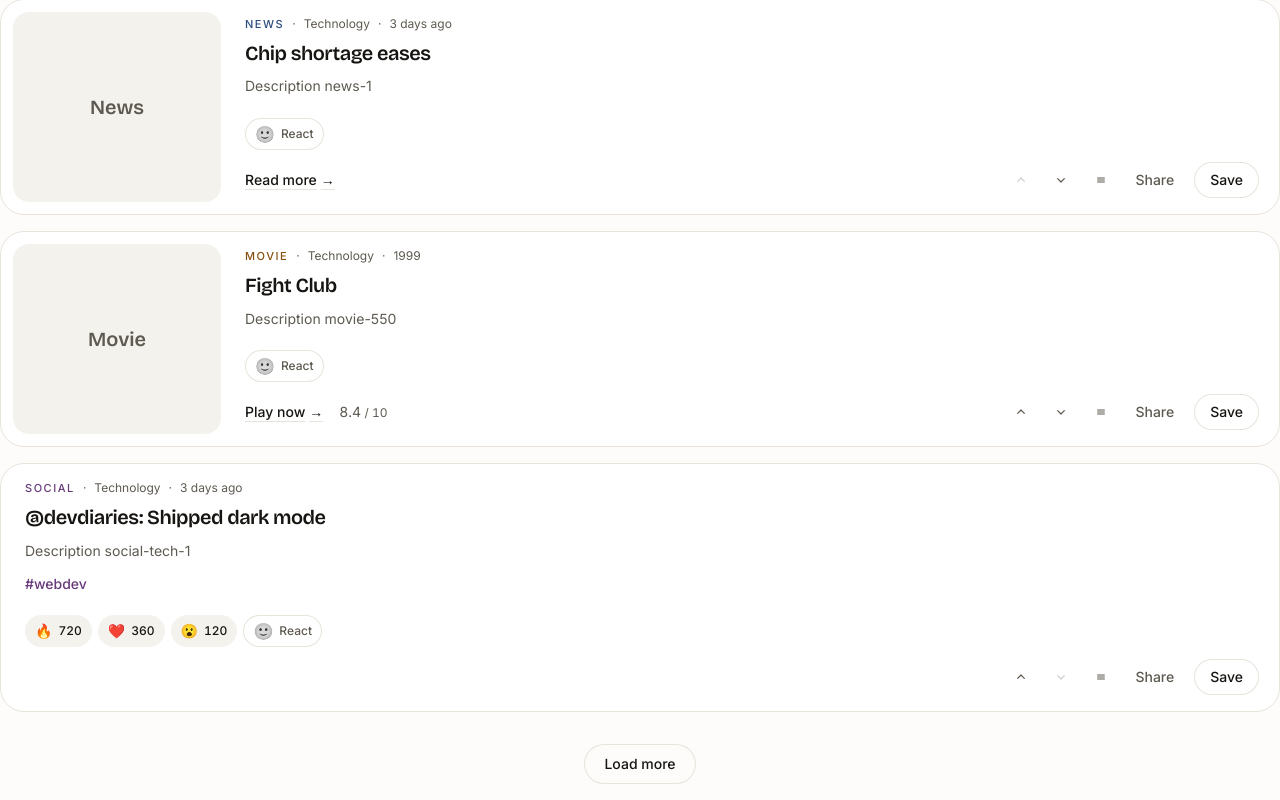
Test: FeedView › loads the next page and shows the end of the feed
(page scrolled)
expect the heading "Chip shortage eases" is shown: met, box [245,41,430,65]
Click the button "Load more" at coordinates (640, 764), box [584,744,696,784]
(page scrolled)
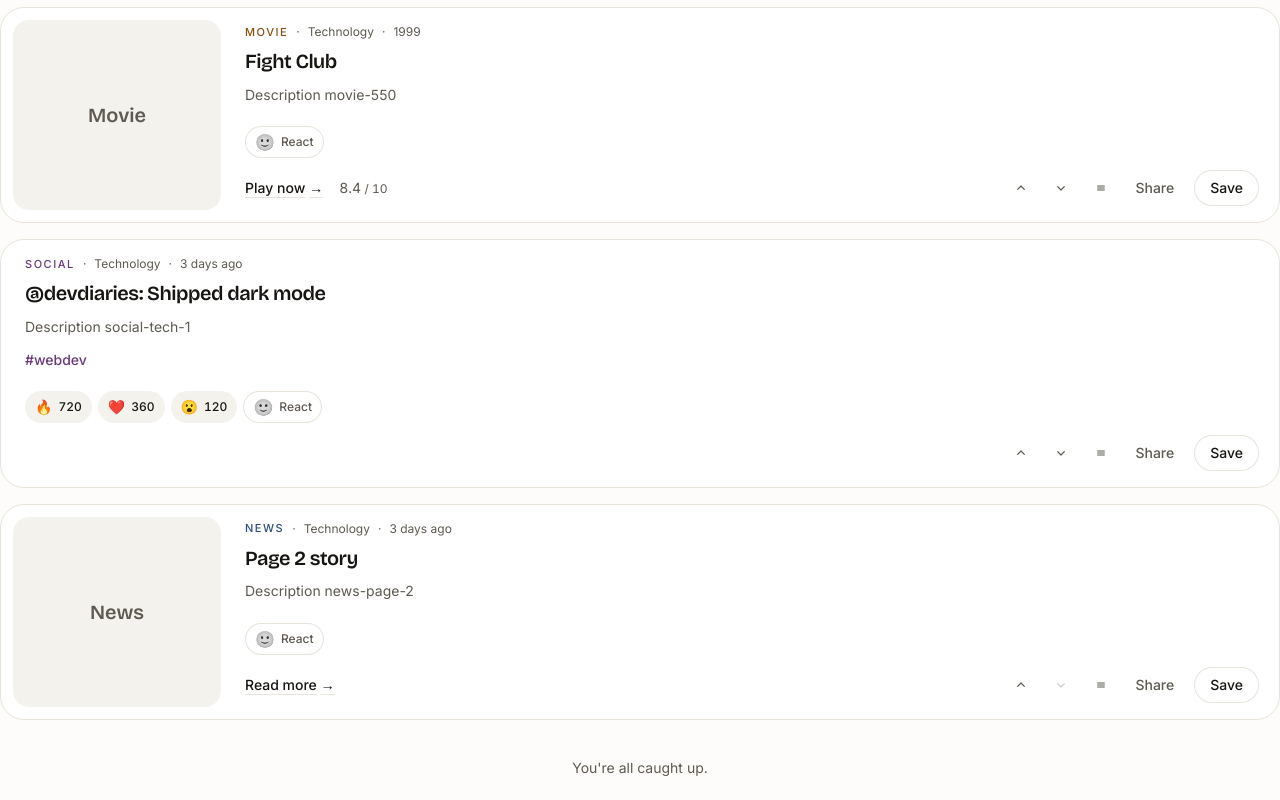
expect the heading "Page 2 story" is shown: met, box [245,546,358,570]
expect the text "You're all caught up." is shown: met, box [572,758,708,778]
